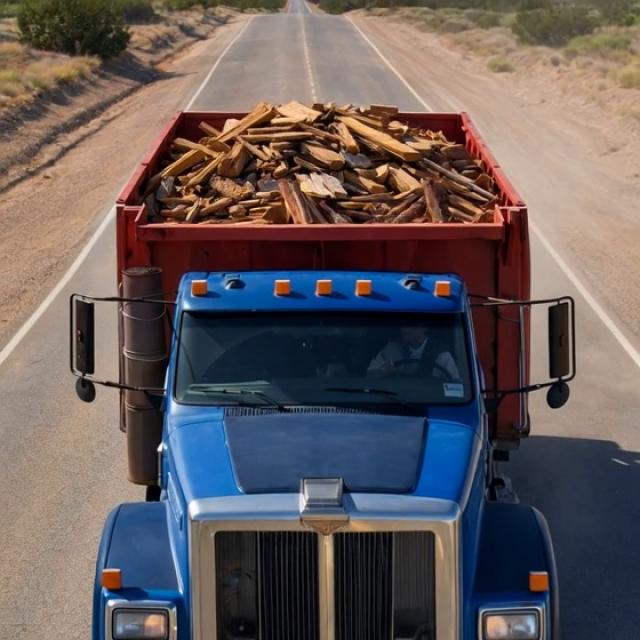Box: (97, 94, 530, 262)
Truck: (41, 81, 594, 640)
